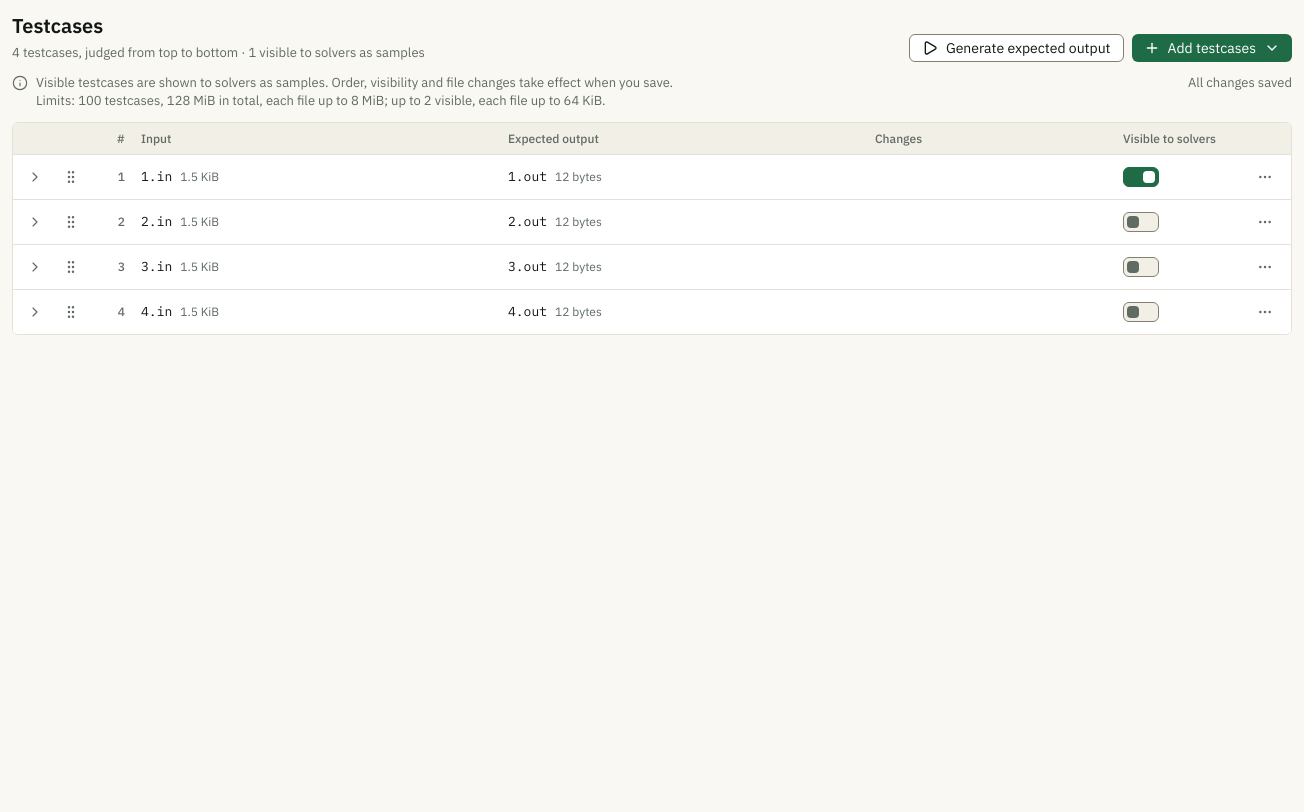
the testcase list › tells the person when a file cannot be loaded and lets them retry
Step 1. Click the button named "Show files of testcase 2" → (35, 222), box [21,208,49,236]
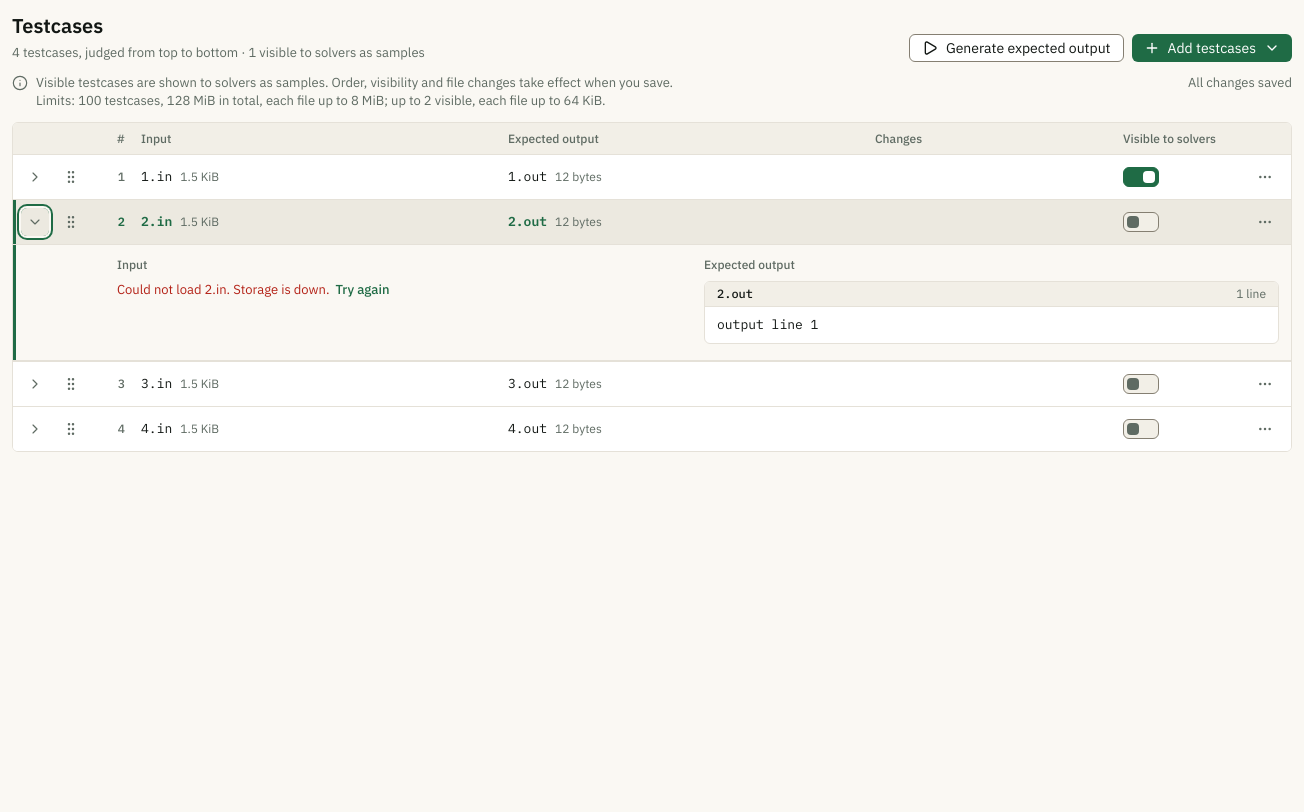
Result: the text "Could not load 2.in. Storage is down. Try again" is shown at [117,281,391,299]
Step 2. Click the button "Try again" → (362, 290), box [334,281,392,299]
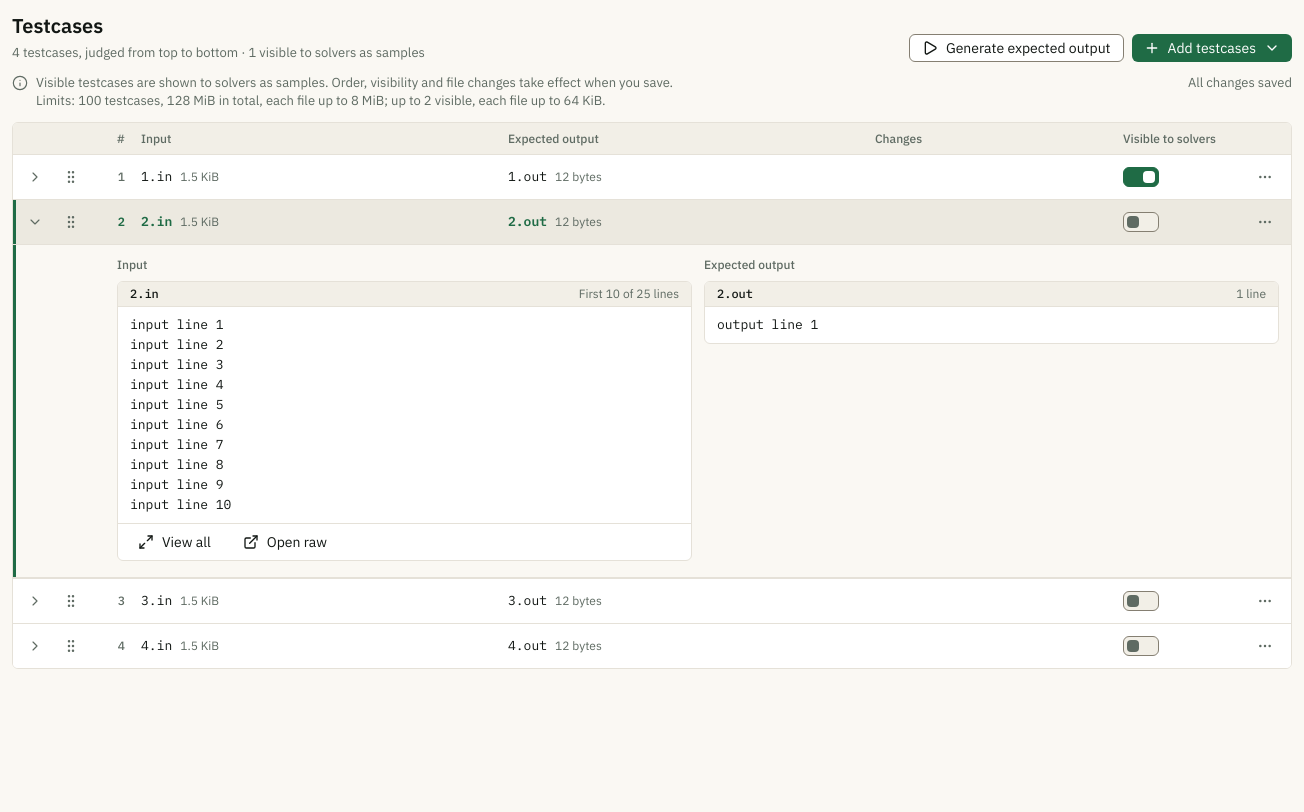
Result: the text "First 10 of 25 lines" is shown at [579,286,679,302]
